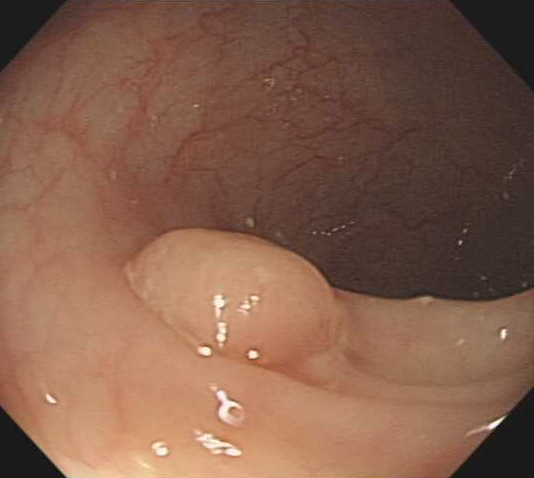adenoma: (117, 223, 345, 371)
